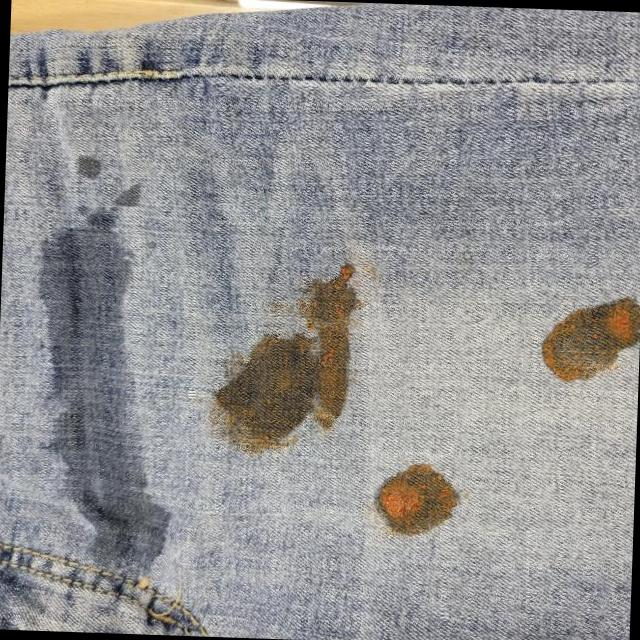Stain: (24, 148, 185, 598), (208, 256, 364, 457), (539, 291, 640, 384), (372, 456, 462, 542)
seam: (8, 41, 640, 115), (0, 536, 216, 634)
